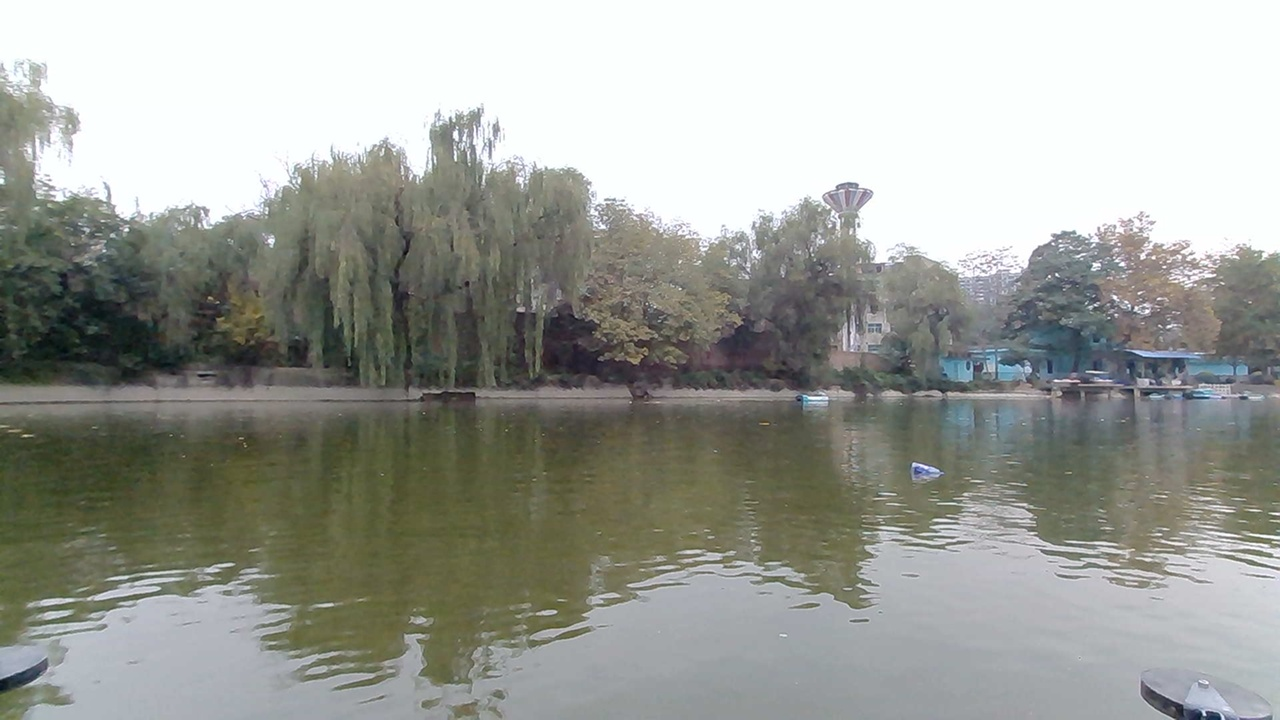bottle: (905, 455, 950, 489)
